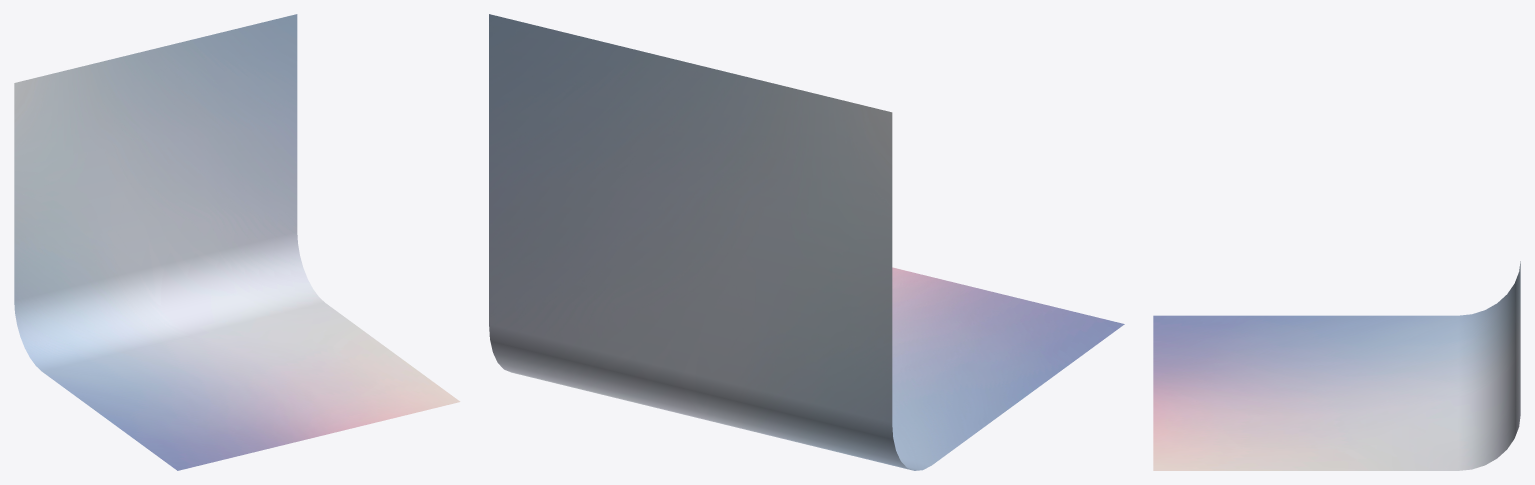
Rendered from back.glb.
The picture shows the model from 3 angles, left to right: view 1: azimuth 30°, elevation 25°; view 2: azimuth 150°, elevation 25°; view 3: azimuth 270°, elevation 25°; orthographic projection. The views are drawn at different scales.
Parts seen in each view (by area): view 1: Plane; view 2: Plane; view 3: Plane.
Boxes of the visible parts, <box> form: Plane: <box>14,14,460,470</box>; Plane: <box>489,14,1124,470</box>; Plane: <box>1153,261,1520,470</box>.
Size of the model in its own units: 14.99 by 13.58 by 14.99.
1 material, 1 textured.
